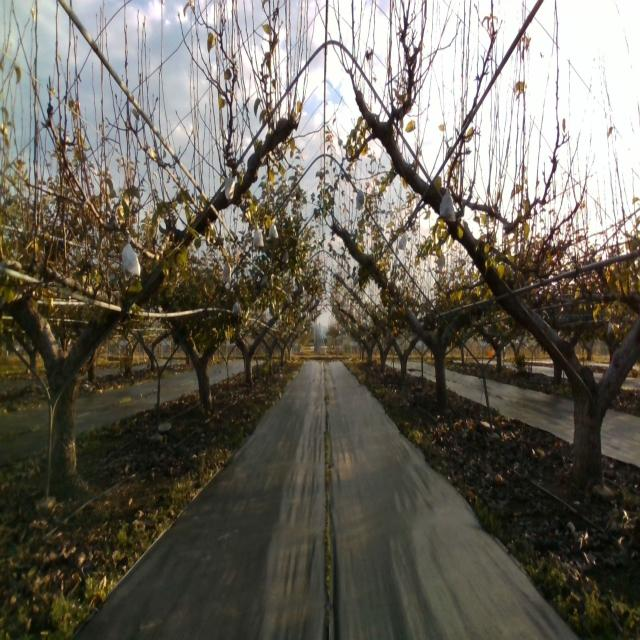pearbags: (122, 234, 141, 281), (436, 188, 456, 222), (225, 167, 235, 200), (355, 182, 366, 210), (253, 223, 264, 248)
